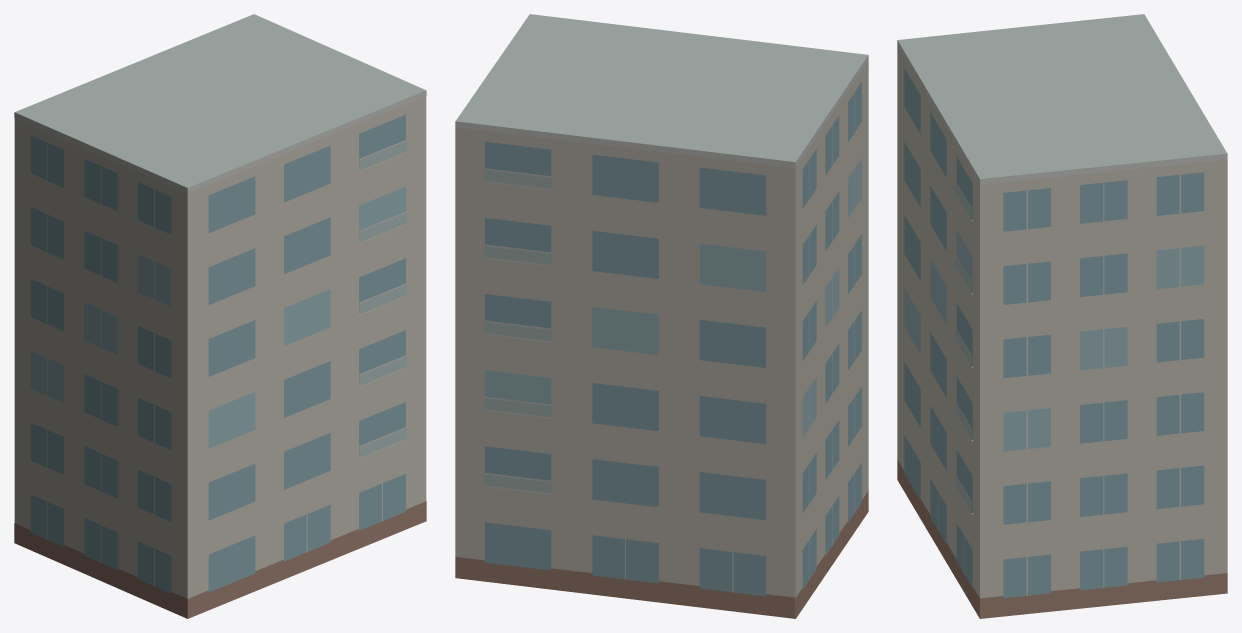
File: survey-upis-32913189.glb
The picture shows the model from 3 angles, left to right: view 1: azimuth 30°, elevation 25°; view 2: azimuth 150°, elevation 25°; view 3: azimuth 270°, elevation 25°; orthographic projection. The views are drawn at different scales.
Visible parts, largest first — view 1: survey-upis-32913189.tmp; view 2: survey-upis-32913189.tmp; view 3: survey-upis-32913189.tmp.
Part boxes in pixels (left/top/right/bottom): survey-upis-32913189.tmp: left=14, top=14, right=426, bottom=618; survey-upis-32913189.tmp: left=455, top=14, right=868, bottom=618; survey-upis-32913189.tmp: left=897, top=14, right=1227, bottom=618.
Size of the model in its own units: 15.06 by 18.7 by 12.73.
